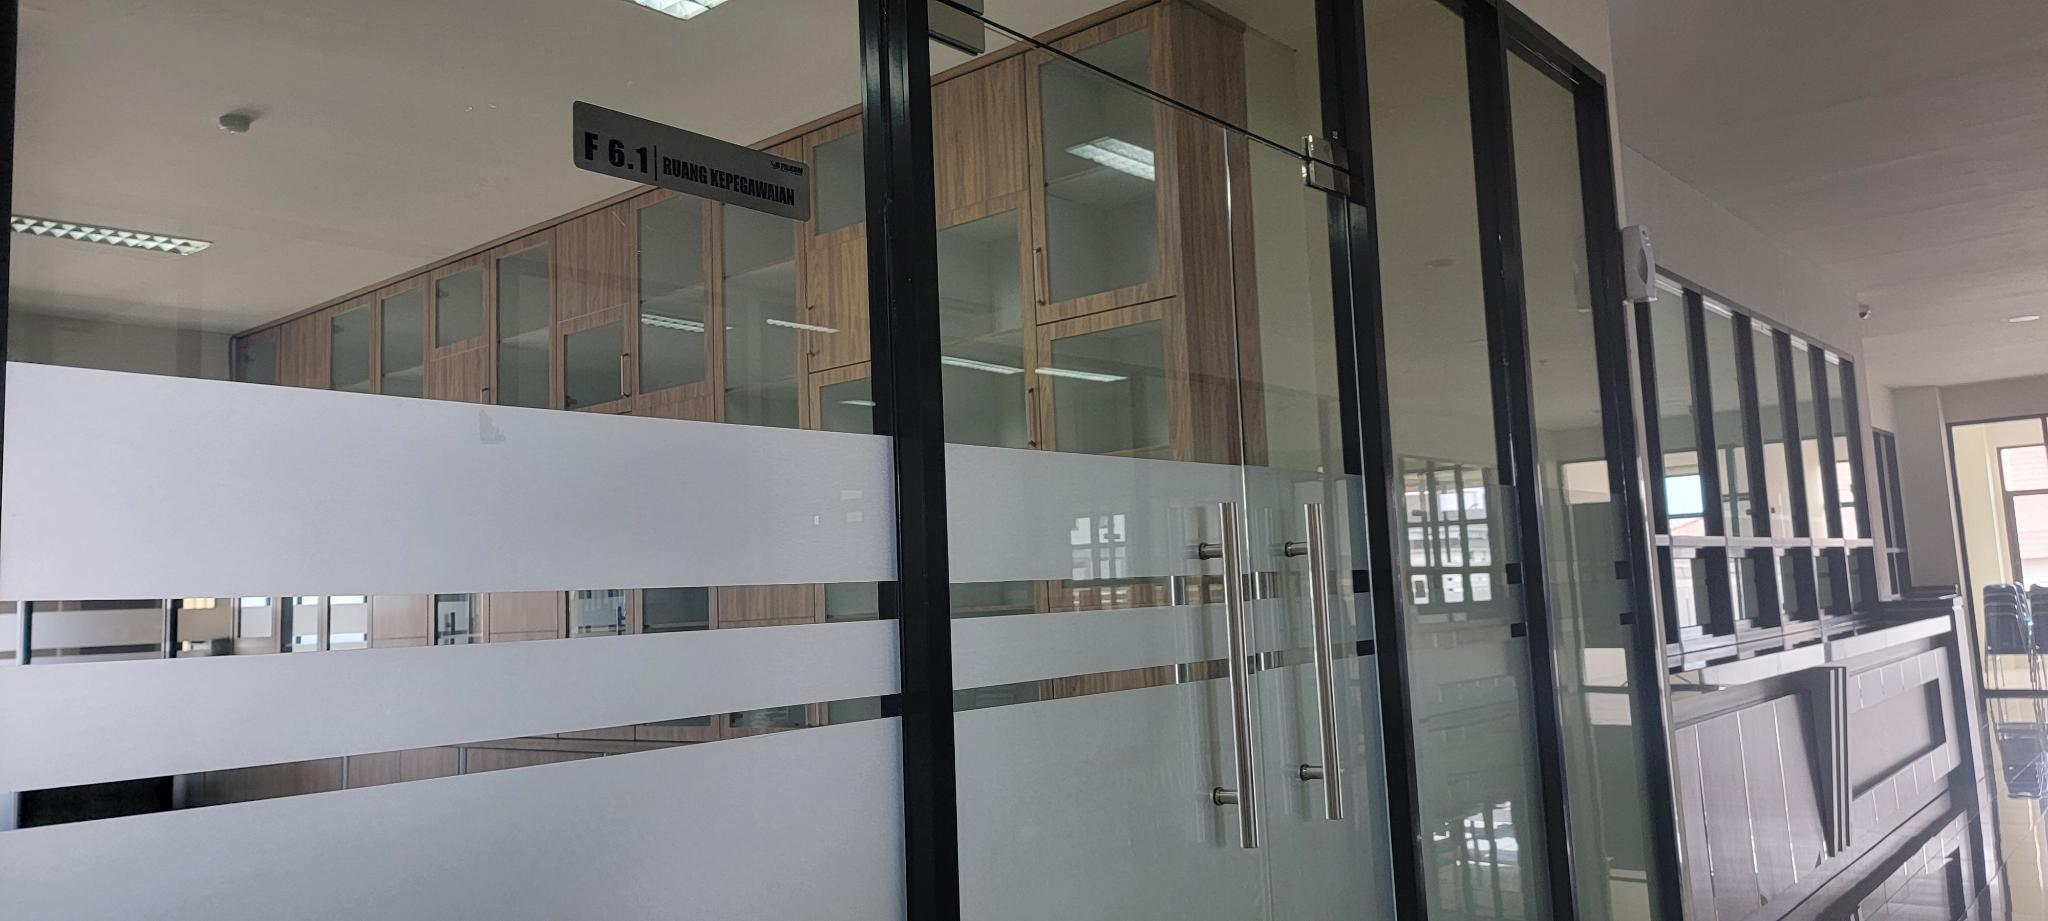plate: (572, 99, 811, 225)
